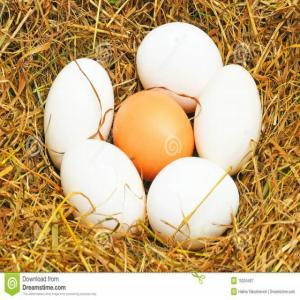Egg: (53, 138, 152, 255), (144, 153, 254, 253), (190, 45, 270, 179), (43, 45, 120, 171), (127, 14, 230, 106), (114, 76, 200, 177)
